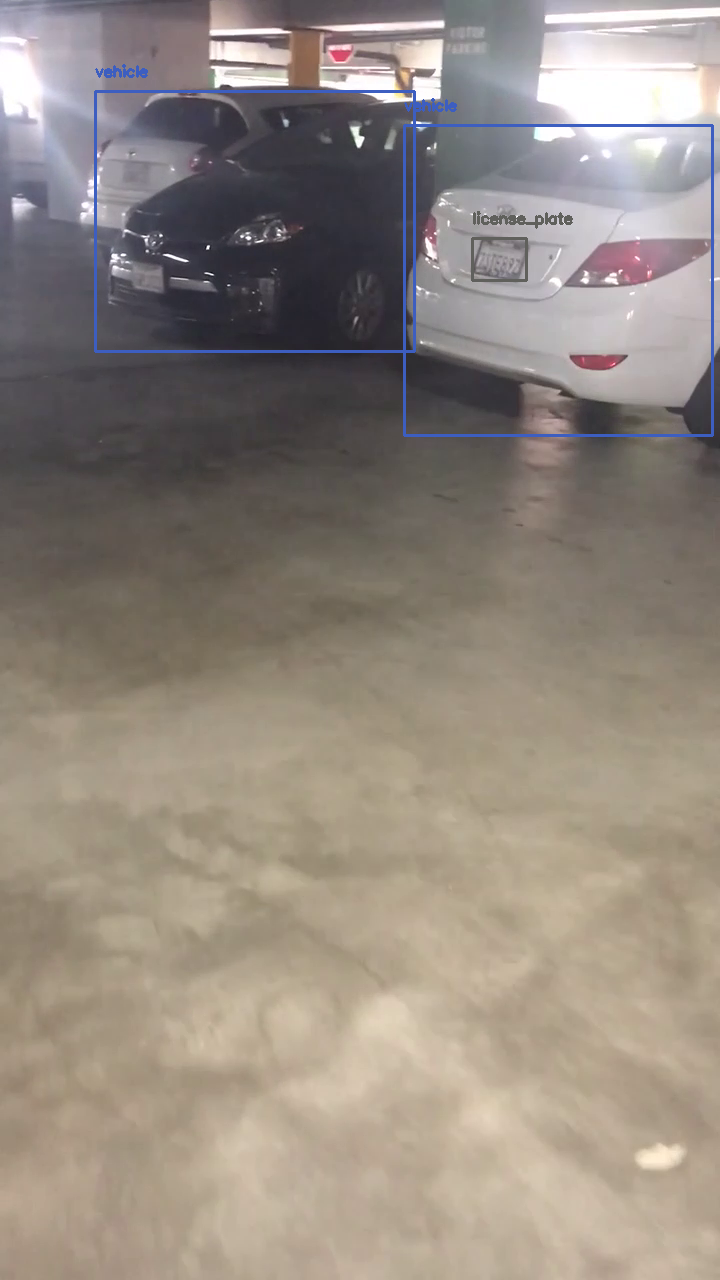license_plate: (472, 238, 526, 280)
vehicle: (404, 125, 712, 435), (95, 91, 414, 351)
